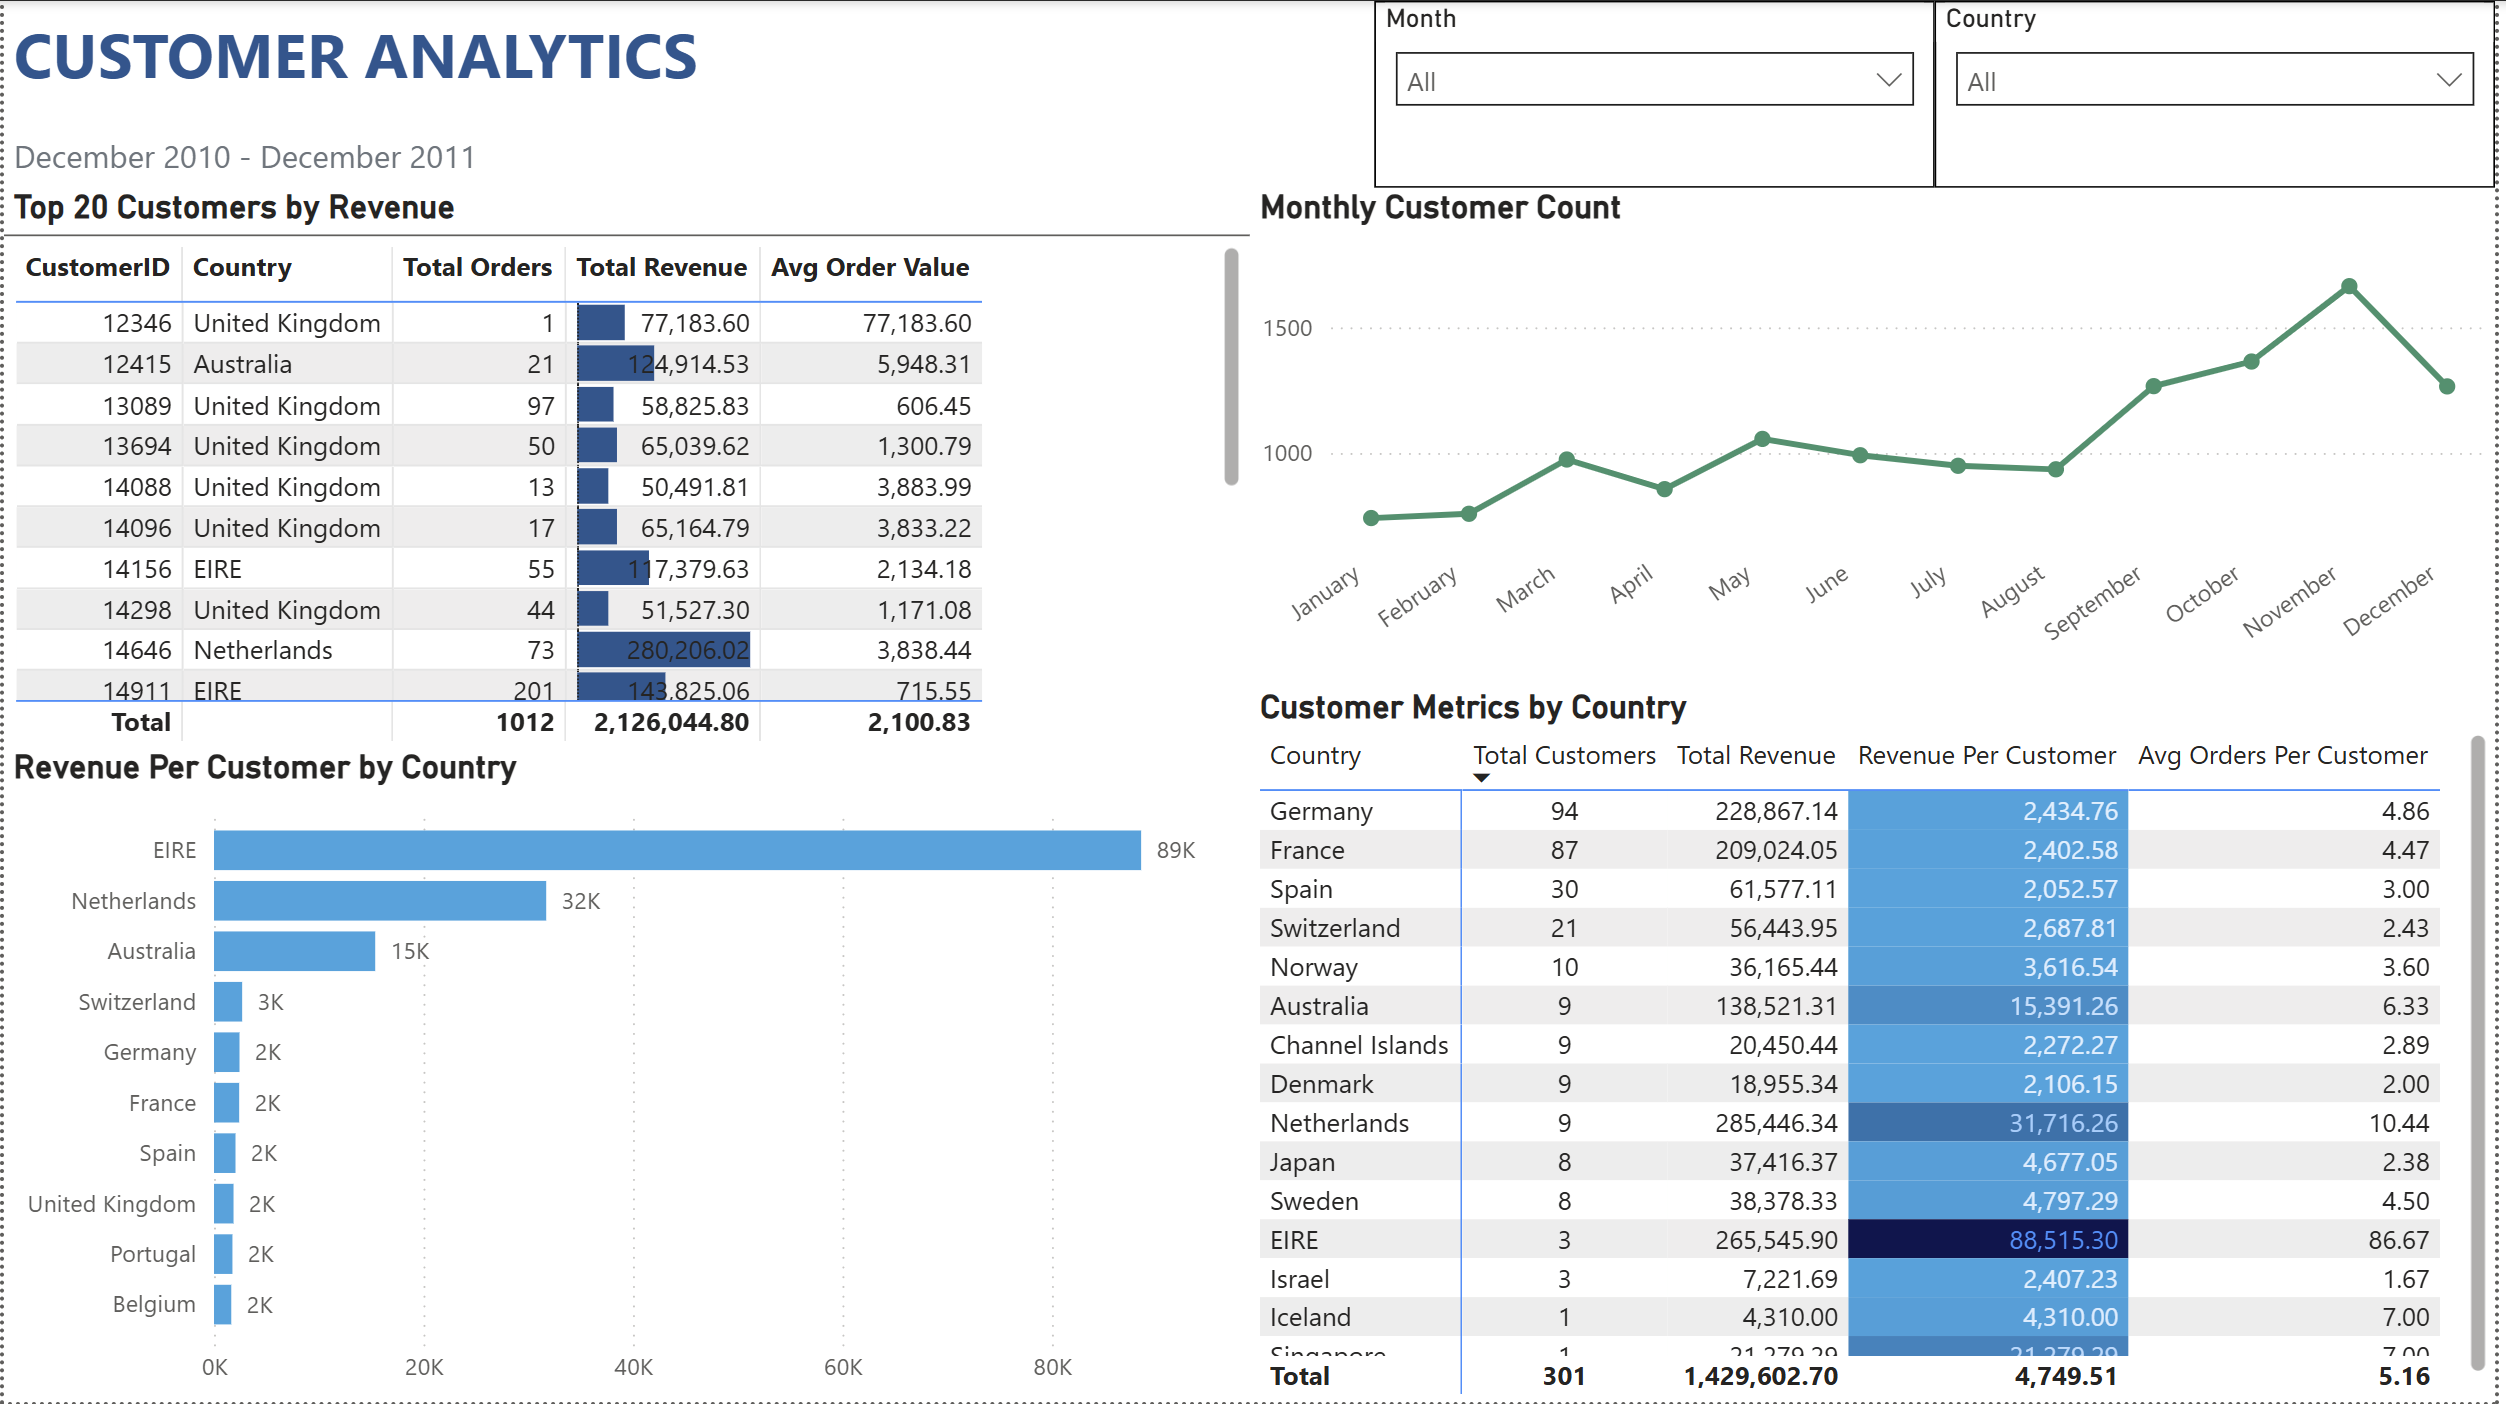

The dashboard page shown, as its layout file describes it:
{"tool":"powerbi","page":{"name":"Customer Insights","canvas":[1280,720],"ordinal":1},"visuals":[{"type":"textbox","box":[0,0,640,64],"z":0},{"type":"textbox","box":[0,64,640,32],"z":1000},{"type":"slicer","title":"Month","fields":{"Values":["online_retail_clean.InvoiceDate.Variation.Date Hierarchy.Month"]},"box":[704,0,288,96],"z":2000},{"type":"slicer","title":"Country","fields":{"Values":["online_retail_clean.Country"]},"box":[992,0,288,96],"z":3000},{"type":"tableEx","title":"Top 20 Customers by Revenue","fields":{"Values":["online_retail_clean.CustomerID","online_retail_clean.Country","online_retail_clean.Total Orders","online_retail_clean.Total Revenue","online_retail_clean.Avg Order Value"]},"box":[0,96,640,288],"z":4000},{"type":"barChart","title":"Revenue Per Customer by Country","fields":{"Y":["online_retail_clean.Revenue Per Customer"],"Category":["online_retail_clean.Country"]},"box":[0,384,640,336],"z":5000},{"type":"lineChart","title":"Monthly Customer Count","fields":{"Y":["online_retail_clean.Total Customers"],"Category":["online_retail_clean.InvoiceDate.Variation.Date Hierarchy.Month"]},"box":[640,96,640,256],"z":6000},{"type":"pivotTable","title":"Customer Metrics by Country","fields":{"Rows":["online_retail_clean.Country"],"Values":["online_retail_clean.Total Customers","online_retail_clean.Total Revenue","online_retail_clean.Revenue Per Customer","online_retail_clean.Avg Orders Per Customer"]},"box":[640,352,640,368],"z":7000}]}

Visuals, with their boxes in screenshot pixels (x1, y1, x2, y2), scaled from the page's 1280x720 canvas onto the 2506x1404 screenshot:
textbox: {"left": 0, "top": 0, "right": 1253, "bottom": 125}
textbox: {"left": 0, "top": 125, "right": 1253, "bottom": 187}
"Month" slicer: {"left": 1378, "top": 0, "right": 1942, "bottom": 187}
"Country" slicer: {"left": 1942, "top": 0, "right": 2505, "bottom": 187}
"Top 20 Customers by Revenue" tableEx: {"left": 0, "top": 187, "right": 1253, "bottom": 749}
"Revenue Per Customer by Country" barChart: {"left": 0, "top": 749, "right": 1253, "bottom": 1403}
"Monthly Customer Count" lineChart: {"left": 1253, "top": 187, "right": 2505, "bottom": 686}
"Customer Metrics by Country" pivotTable: {"left": 1253, "top": 686, "right": 2505, "bottom": 1403}
